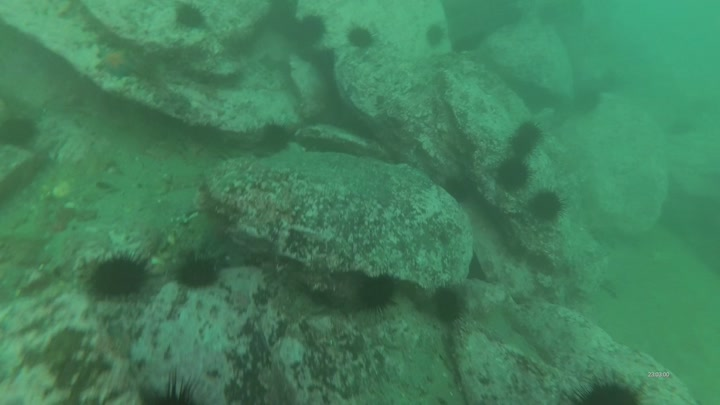echinus: (87, 250, 161, 304), (565, 364, 647, 405), (353, 270, 402, 316), (143, 372, 206, 405), (175, 253, 224, 293), (491, 152, 537, 194), (525, 188, 569, 226), (255, 119, 295, 156), (430, 287, 467, 327), (1, 116, 40, 151), (175, 3, 209, 32), (299, 15, 331, 45), (345, 23, 378, 52), (515, 118, 547, 145), (509, 136, 537, 159), (427, 22, 449, 51)
starfish: (94, 43, 143, 81)
